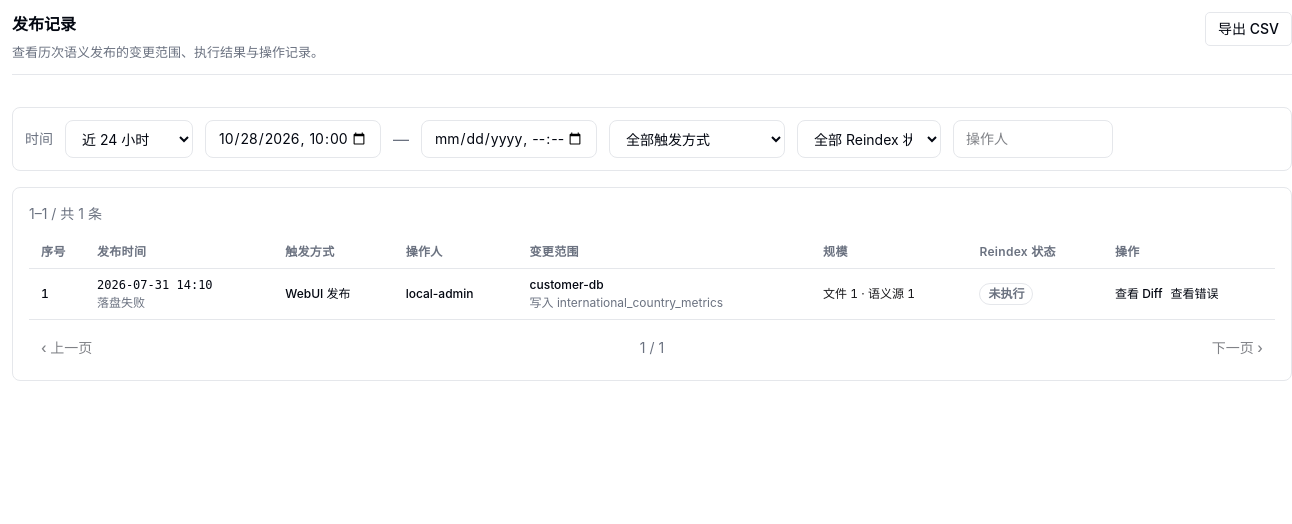
it: PublishHistory › exposes a 查看错误 action for promote_failed records and links back to the gate
The image size is (1292, 524).
Click the button "查看错误" at (1194, 294), box x1=1170 y1=286 x2=1218 y2=302
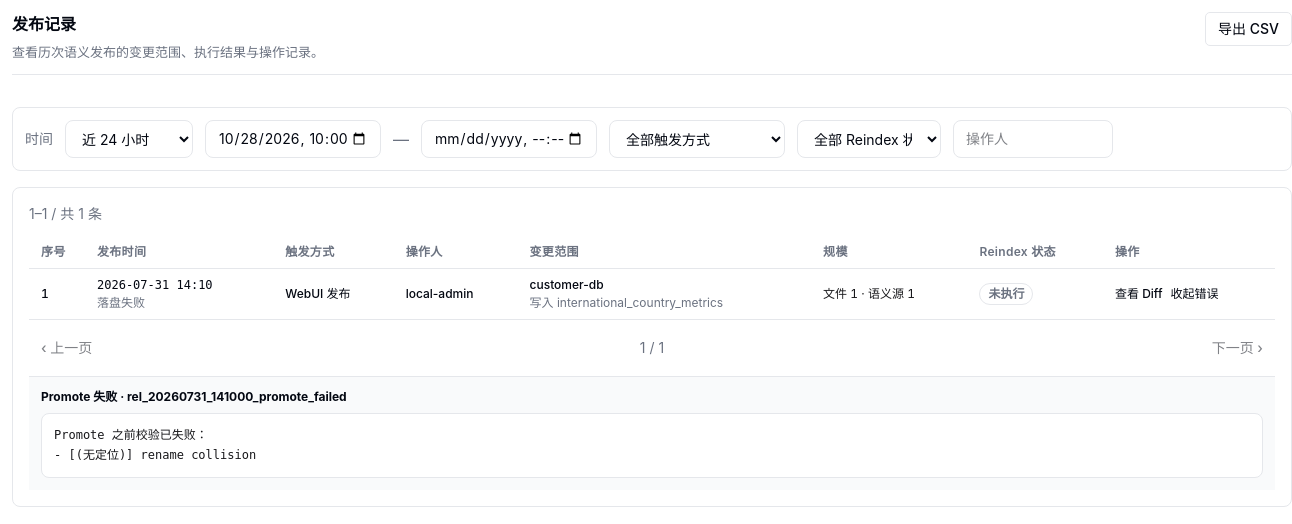
Check: the element with test id "publish-history-expanded-panel" shows "Promote 失败", box x1=41 y1=389 x2=347 y2=404
Check: the element with test id "publish-history-expanded-panel" shows "rename collision", box x1=54 y1=428 x2=256 y2=462
